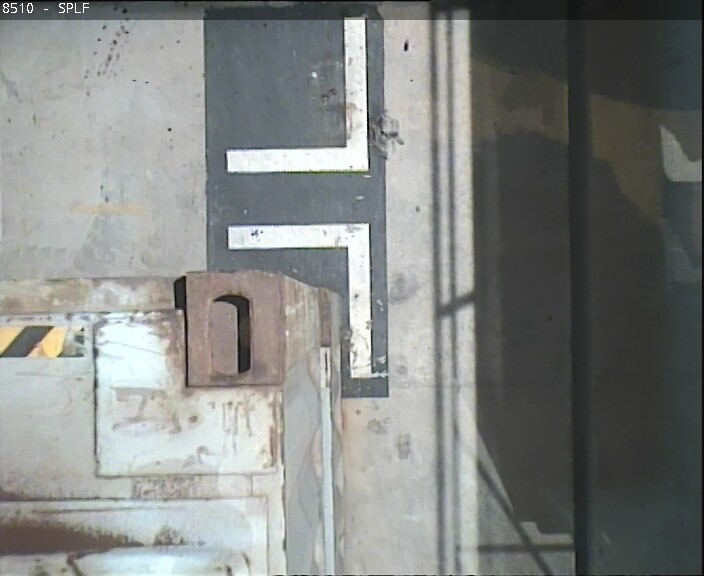groundmarker_1: (229, 16, 372, 378)
